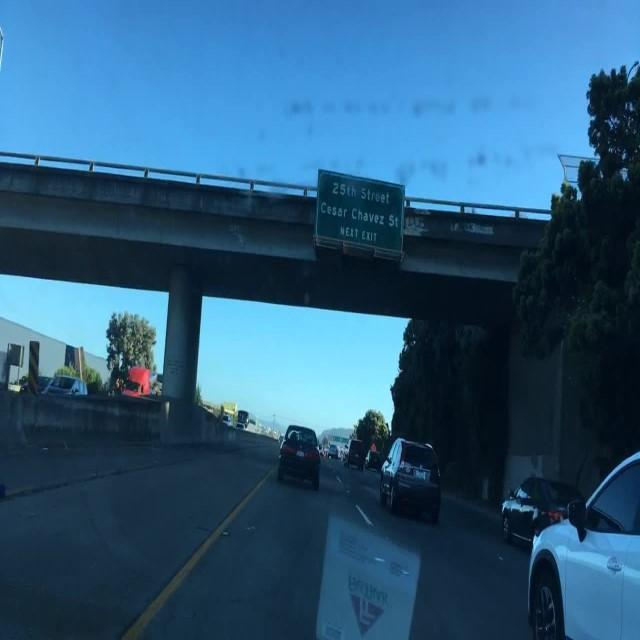normal: (527, 448, 640, 639), (380, 440, 444, 522), (277, 426, 322, 490)
